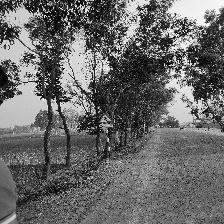Pedestrian-crossing: (98, 108, 115, 134)
